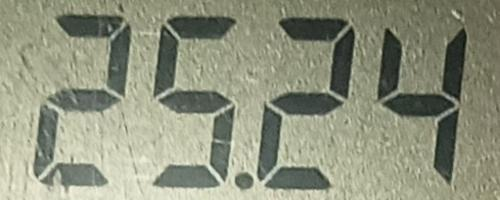.: (233, 169, 253, 197)
